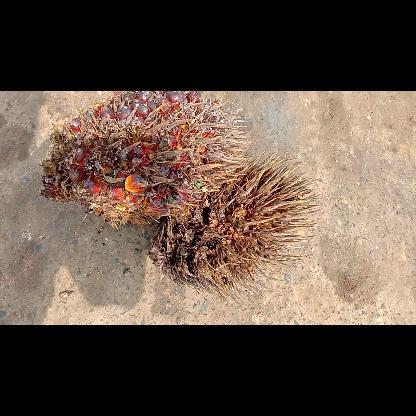Janjang kosong: (146, 151, 322, 303)
TBS masak: (41, 91, 249, 229)
